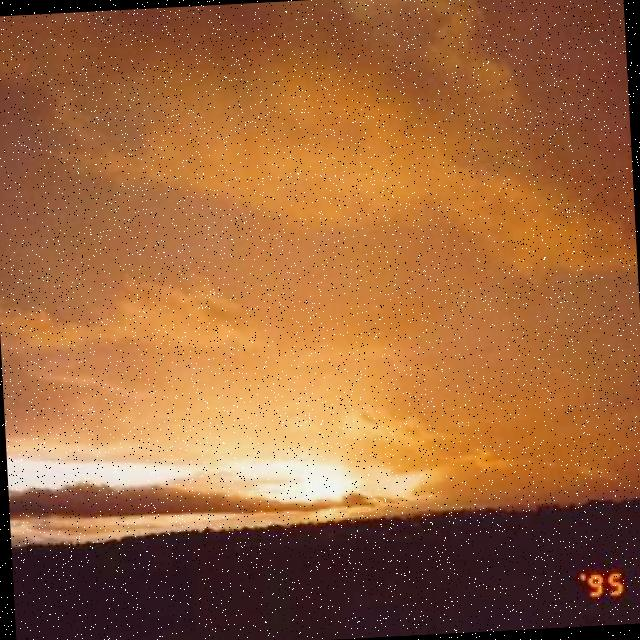St: (1, 10, 640, 478)
